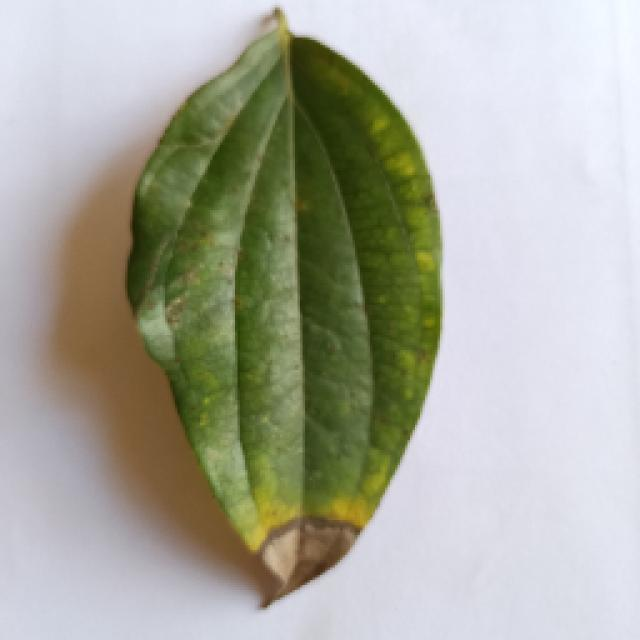footrot: (120, 13, 445, 605)
